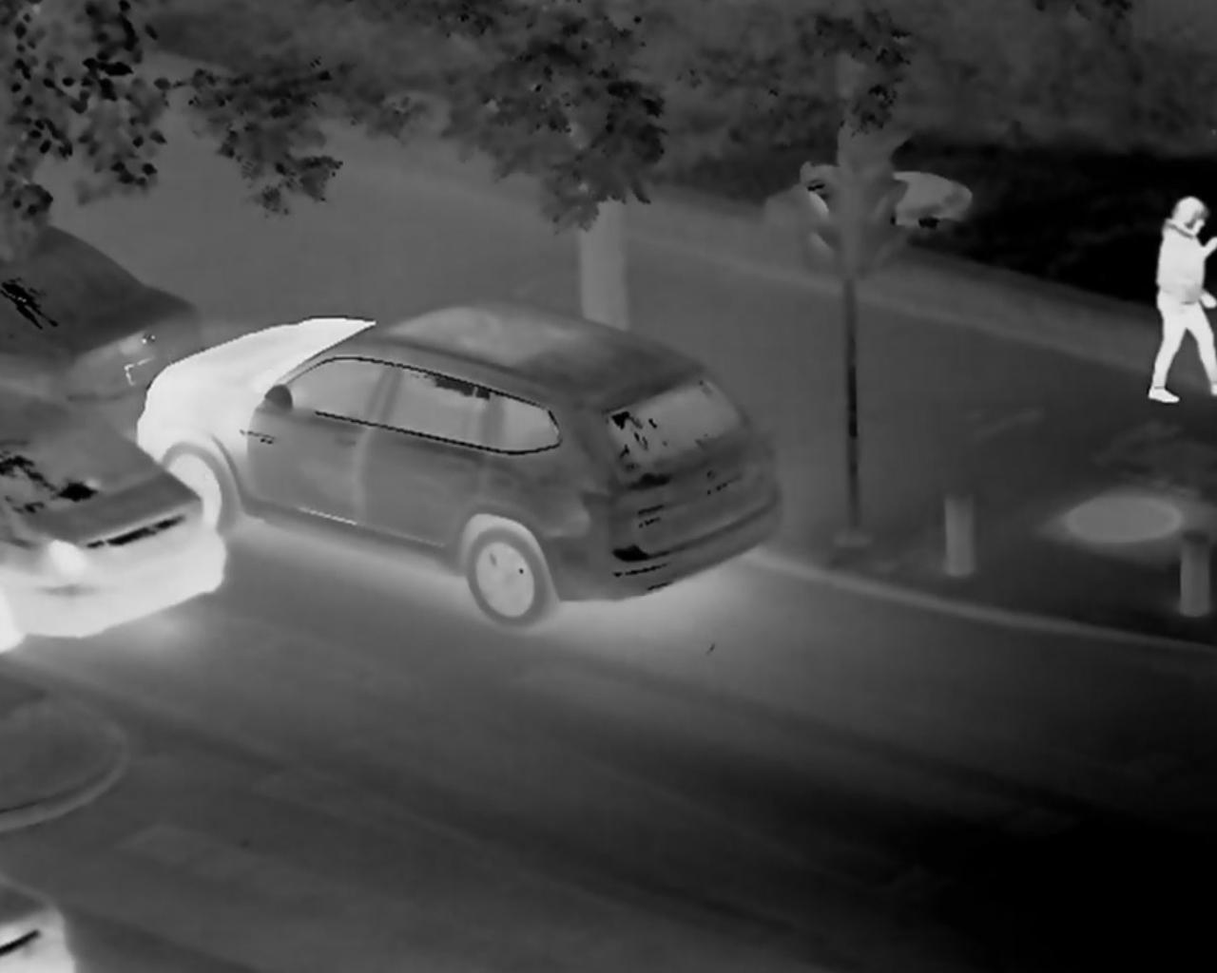person: (1149, 192, 1217, 394)
